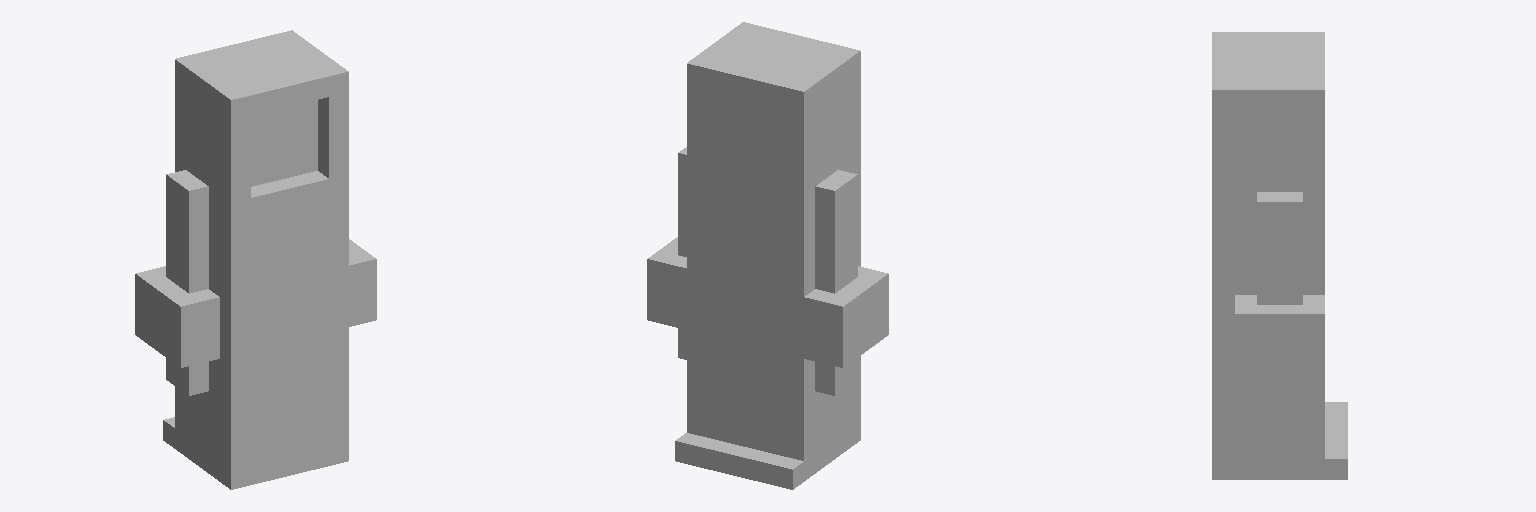
The picture shows the model from 3 angles: view 1: azimuth 30°, elevation 25°; view 2: azimuth 150°, elevation 25°; view 3: azimuth 270°, elevation 25°; orthographic projection.
Parts seen in each view (by area): view 1: Dark_Lord; view 2: Dark_Lord; view 3: Dark_Lord.
Part boxes in pixels (x1,y1,x2,y2): Dark_Lord: (135, 30, 376, 489); Dark_Lord: (647, 22, 888, 489); Dark_Lord: (1212, 32, 1347, 479).
Size of the model in its own units: 0.625 by 1.19 by 0.375.